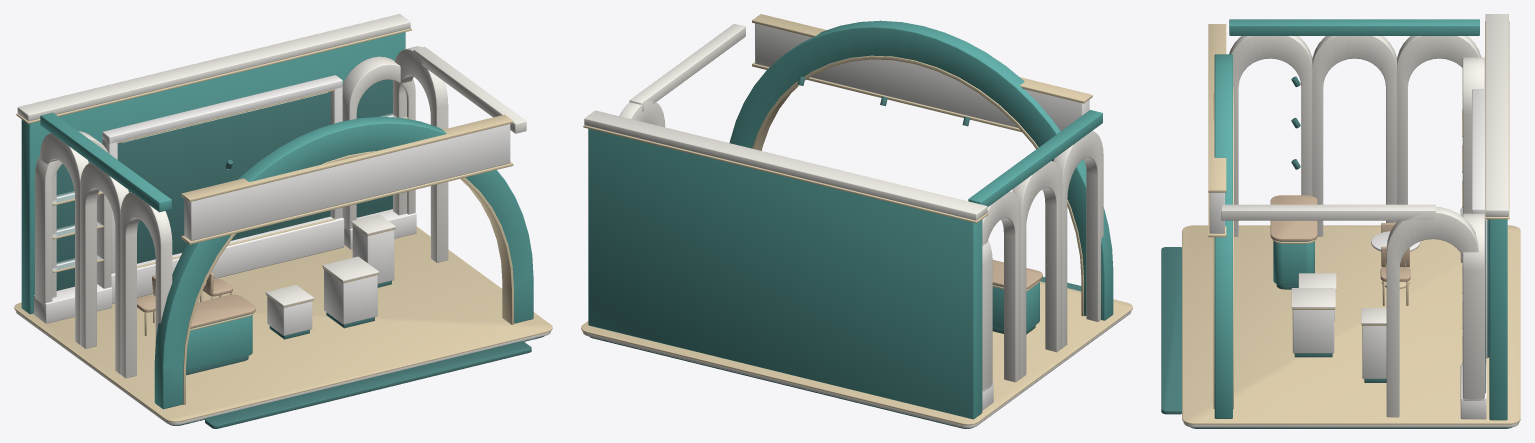
File: booth_05_gallery_arch_v27_3.glb
3 renders of one model, left to right at view 1: azimuth 30°, elevation 25°; view 2: azimuth 150°, elevation 25°; view 3: azimuth 270°, elevation 25°, orthographic. The views are drawn at different scales.
Visible parts, largest first — view 1: V273_Booth05_GalleryArch_Gallery_Satin_Brass, V273_Booth05_GalleryArch_Gallery_Warm_Cream, V273_Booth05_GalleryArch_Gallery_Jade_Teal, V273_Booth05_GalleryArch_Gallery_Natural_Stone, V273_Booth05_GalleryArch_Gallery_Deep_Teal_Plinth, V273_Booth05_GalleryArch_Gallery_Warm_Wood, V273_Booth05_GalleryArch_Gallery_Tempered_Glass; view 2: V273_Booth05_GalleryArch_Gallery_Jade_Teal, V273_Booth05_GalleryArch_Gallery_Warm_Cream, V273_Booth05_GalleryArch_Gallery_Satin_Brass, V273_Booth05_GalleryArch_Gallery_Natural_Stone, V273_Booth05_GalleryArch_Gallery_Deep_Teal_Plinth, V273_Booth05_GalleryArch_Gallery_Warm_Wood; view 3: V273_Booth05_GalleryArch_Gallery_Satin_Brass, V273_Booth05_GalleryArch_Gallery_Warm_Cream, V273_Booth05_GalleryArch_Gallery_Jade_Teal, V273_Booth05_GalleryArch_Gallery_Natural_Stone, V273_Booth05_GalleryArch_Gallery_Deep_Teal_Plinth, V273_Booth05_GalleryArch_Gallery_Warm_Wood.
Part boxes in pixels (<box>): V273_Booth05_GalleryArch_Gallery_Satin_Brass: <box>14,28,552,422</box>; V273_Booth05_GalleryArch_Gallery_Warm_Cream: <box>16,14,550,425</box>; V273_Booth05_GalleryArch_Gallery_Jade_Teal: <box>21,32,533,409</box>; V273_Booth05_GalleryArch_Gallery_Natural_Stone: <box>34,75,510,335</box>; V273_Booth05_GalleryArch_Gallery_Deep_Teal_Plinth: <box>56,79,544,428</box>; V273_Booth05_GalleryArch_Gallery_Warm_Wood: <box>137,272,255,328</box>; V273_Booth05_GalleryArch_Gallery_Tempered_Glass: <box>52,113,406,272</box>; V273_Booth05_GalleryArch_Gallery_Jade_Teal: <box>588,20,1113,419</box>; V273_Booth05_GalleryArch_Gallery_Warm_Cream: <box>582,24,1131,428</box>; V273_Booth05_GalleryArch_Gallery_Satin_Brass: <box>581,14,1132,425</box>; V273_Booth05_GalleryArch_Gallery_Natural_Stone: <box>755,23,1089,410</box>; V273_Booth05_GalleryArch_Gallery_Deep_Teal_Plinth: <box>589,76,1081,428</box>; V273_Booth05_GalleryArch_Gallery_Warm_Wood: <box>992,260,1042,289</box>; V273_Booth05_GalleryArch_Gallery_Satin_Brass: <box>1182,21,1520,424</box>; V273_Booth05_GalleryArch_Gallery_Warm_Cream: <box>1183,14,1519,427</box>; V273_Booth05_GalleryArch_Gallery_Jade_Teal: <box>1214,19,1507,420</box>; V273_Booth05_GalleryArch_Gallery_Natural_Stone: <box>1209,89,1487,419</box>; V273_Booth05_GalleryArch_Gallery_Deep_Teal_Plinth: <box>1161,76,1511,428</box>; V273_Booth05_GalleryArch_Gallery_Warm_Wood: <box>1270,195,1410,281</box>.
Size of the model in its own units: 7.2 by 4.36 by 5.52.
